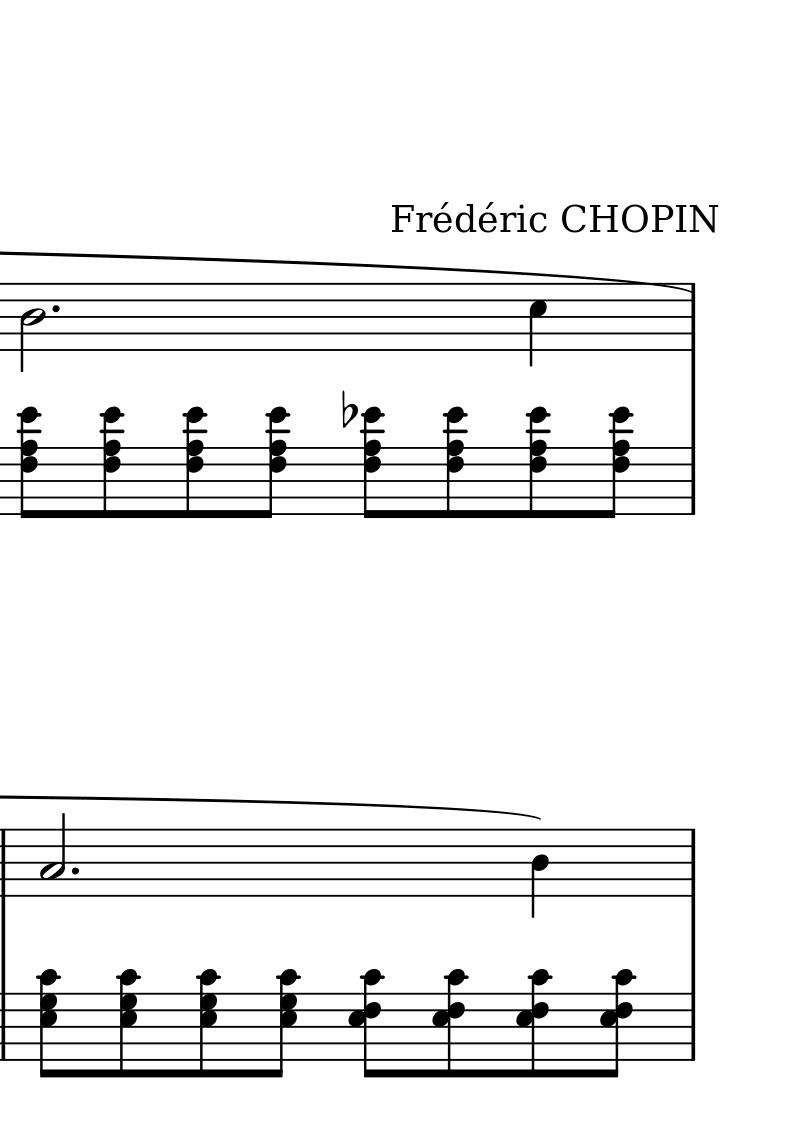2_3: (40, 811, 69, 900)
2_4: (18, 281, 45, 372)
4_4: (528, 826, 552, 920)
4_5: (528, 281, 551, 371)
8_th: (594, 967, 637, 1082), (349, 966, 387, 1079), (267, 964, 304, 1077), (516, 968, 554, 1078), (257, 404, 293, 518), (601, 405, 637, 517), (431, 968, 466, 1078), (442, 405, 472, 520), (15, 404, 45, 519), (195, 967, 225, 1079), (526, 405, 555, 519), (359, 403, 387, 521), (183, 406, 210, 520), (99, 404, 125, 520), (37, 964, 60, 1080), (116, 967, 140, 1078)
Flat: (337, 388, 359, 430)
Single_barline: (683, 829, 702, 896), (682, 992, 701, 1058), (683, 447, 701, 514), (684, 285, 701, 350), (1, 829, 14, 896), (1, 992, 14, 1059)
dot: (69, 864, 81, 878), (50, 302, 61, 315)
